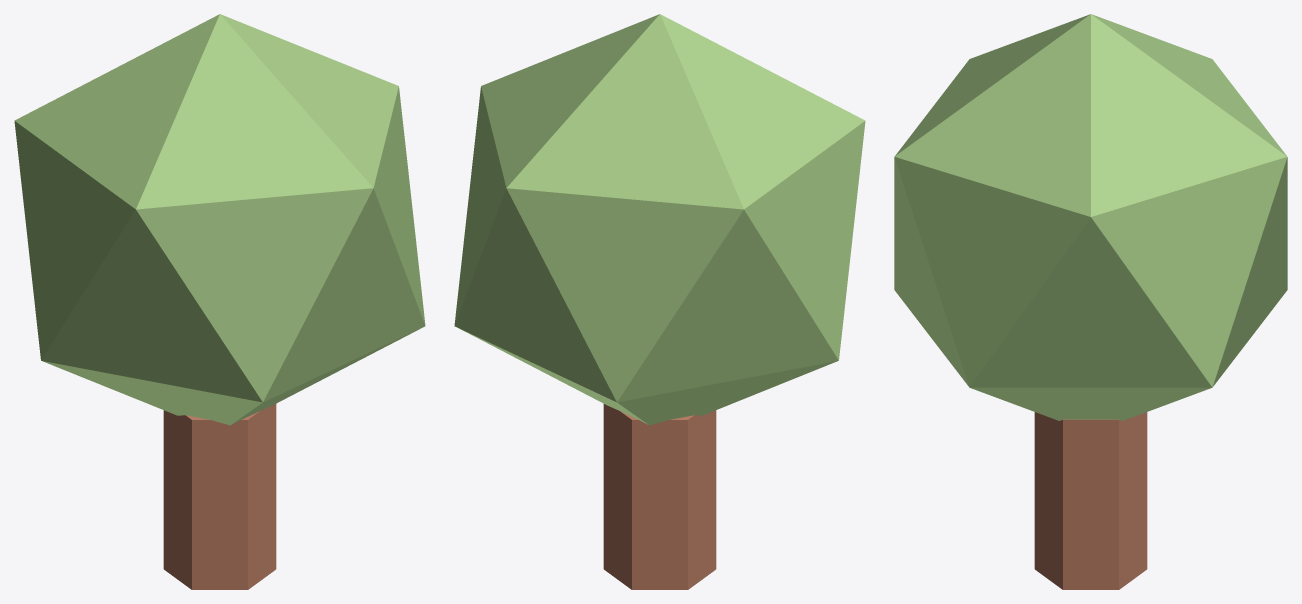
File: tree.fbx
3 views of the same model, side by side, from view 1: azimuth 30°, elevation 25°; view 2: azimuth 150°, elevation 25°; view 3: azimuth 270°, elevation 25° (orthographic).
Visible parts, largest first — view 1: Icosphere.001, Cylinder; view 2: Icosphere.001, Cylinder; view 3: Icosphere.001, Cylinder.
Part boxes in pixels (x1=…): Icosphere.001: x1=14, y1=14, x2=425, y2=425; Cylinder: x1=163, y1=404, x2=276, y2=589; Icosphere.001: x1=454, y1=14, x2=865, y2=425; Cylinder: x1=603, y1=404, x2=716, y2=589; Icosphere.001: x1=894, y1=14, x2=1287, y2=420; Cylinder: x1=1034, y1=412, x2=1147, y2=589.
Bounding box in the file's own units: 220 × 326 × 209.
